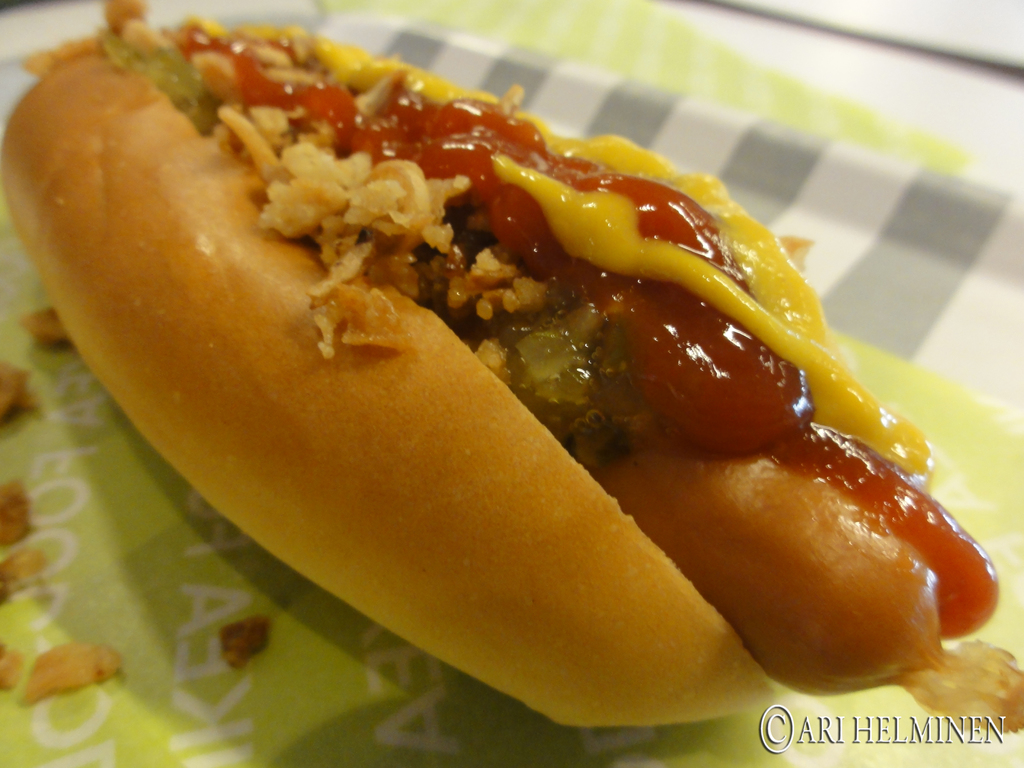hot_dog: (0, 0, 1006, 736)
